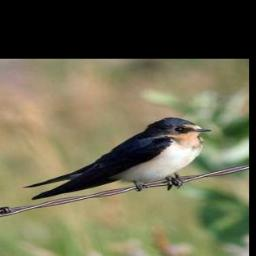Swallow: (24, 115, 214, 204)
